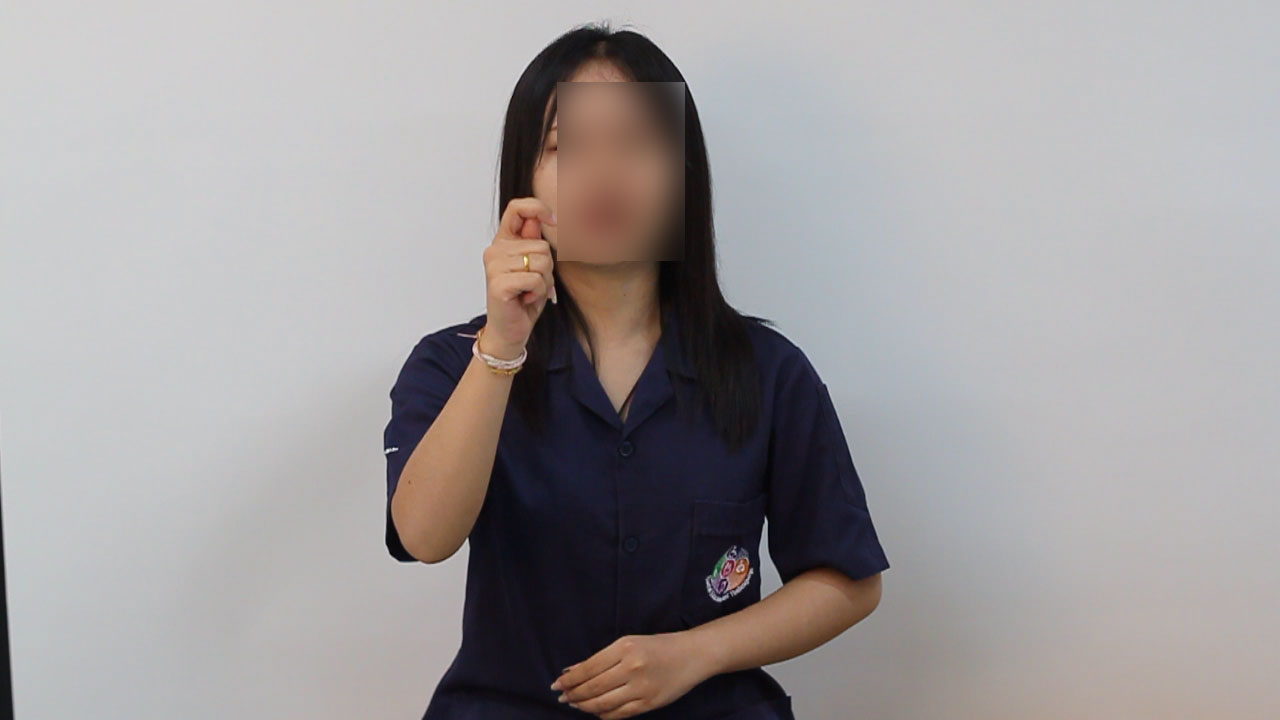or: (479, 191, 569, 345)
